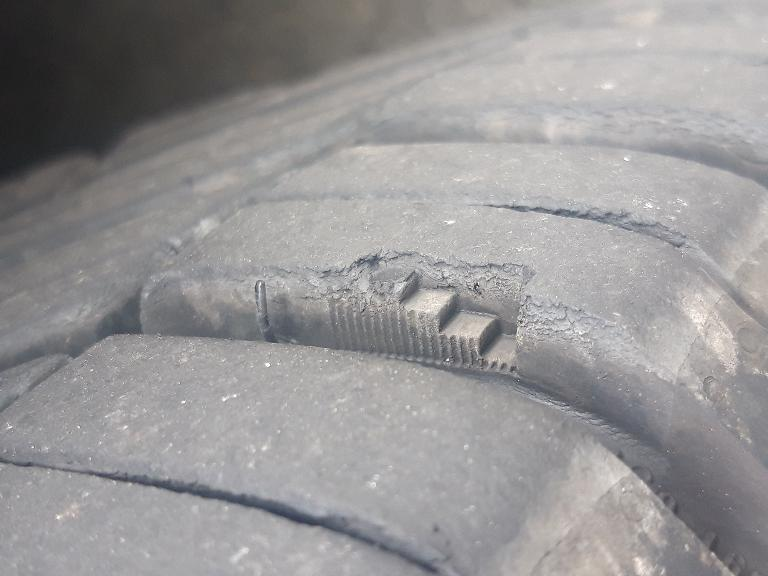temoin:80: (311, 237, 547, 387)
